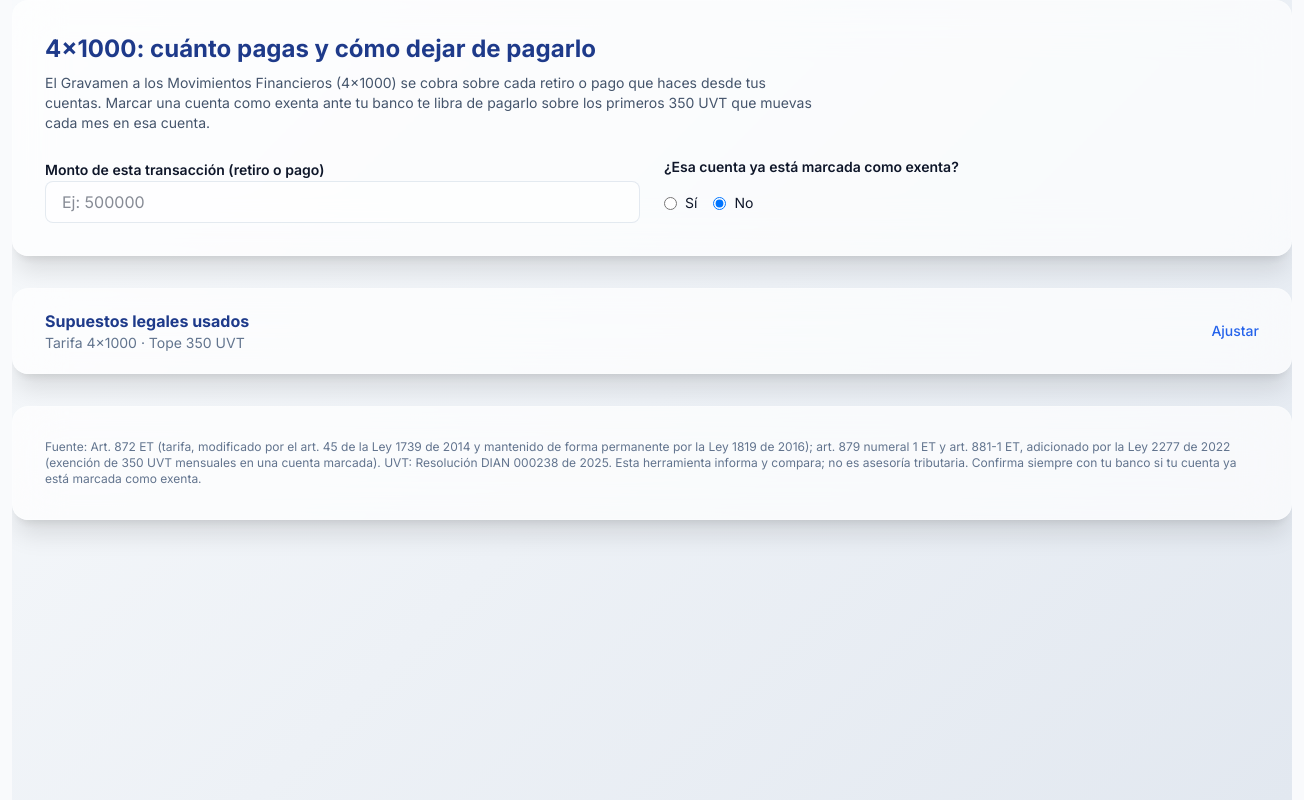
Test: CalculadoraGMF › con la cuenta marcada, muestra el GMF sobre el excedente en vez del ahorro potencial
Click the radio button labelled "Sí".
click(670, 203)  # box top-left (664, 196), bottom-right (677, 210)
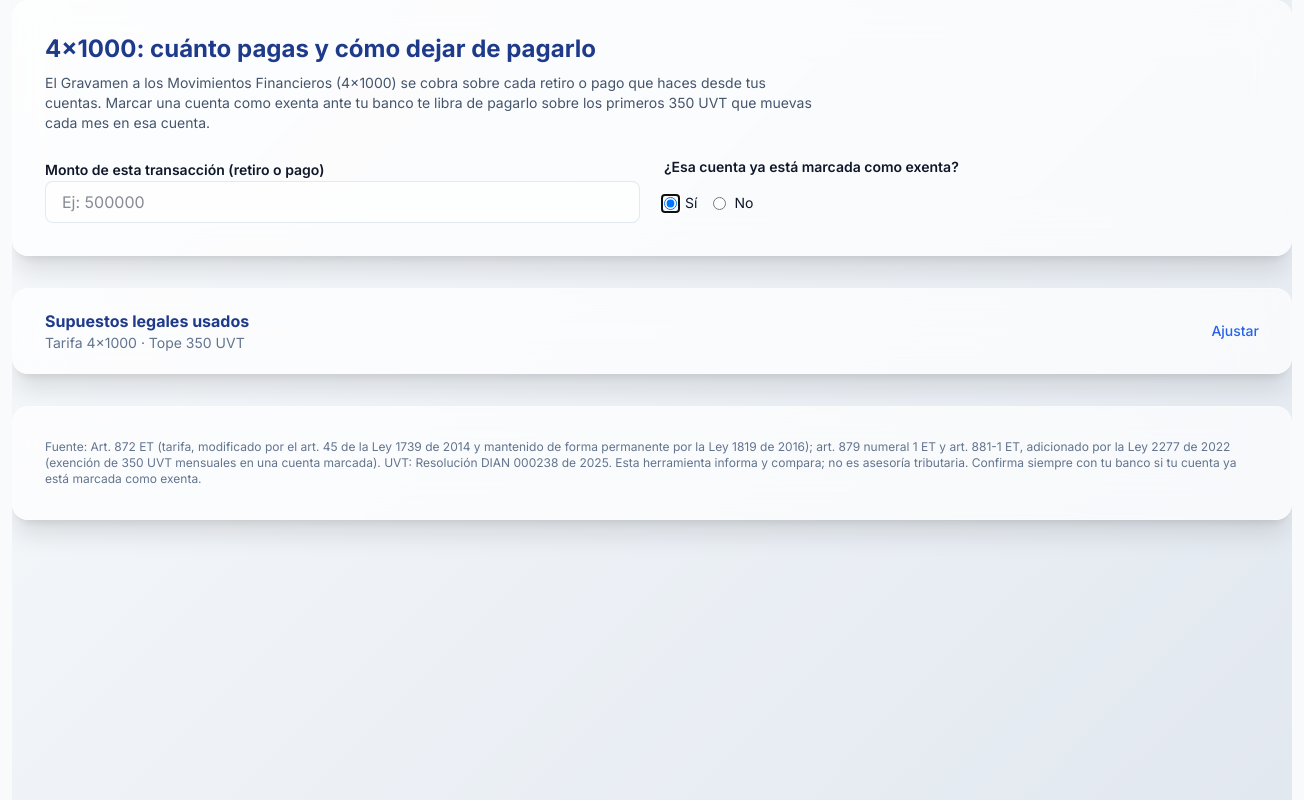
Type "20000000" into the number field labelled "Monto de esta transacción (retiro o pago)".
click(342, 202); type("20000000")  # box top-left (45, 181), bottom-right (640, 223)
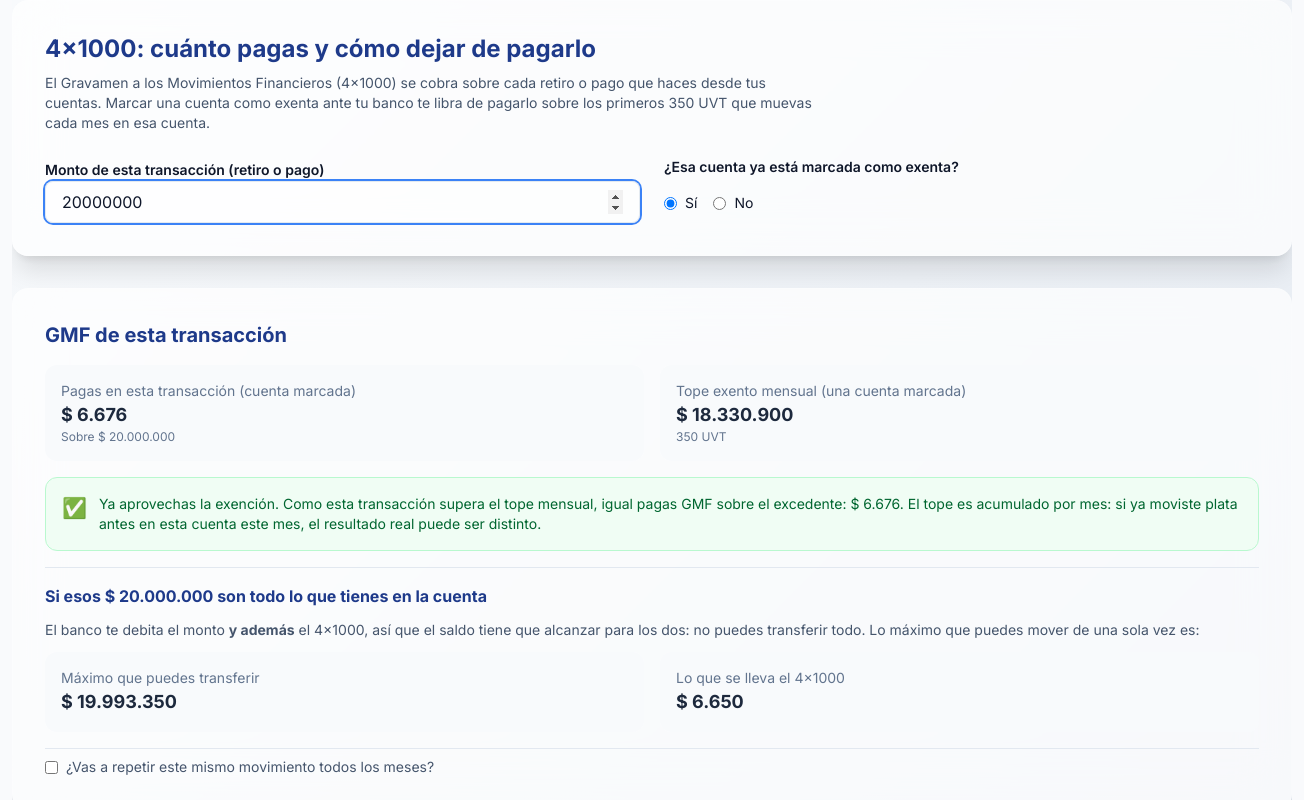
Expected: the text "Ya aprovechas la exención" is shown, top-left (99, 495), bottom-right (283, 512)
